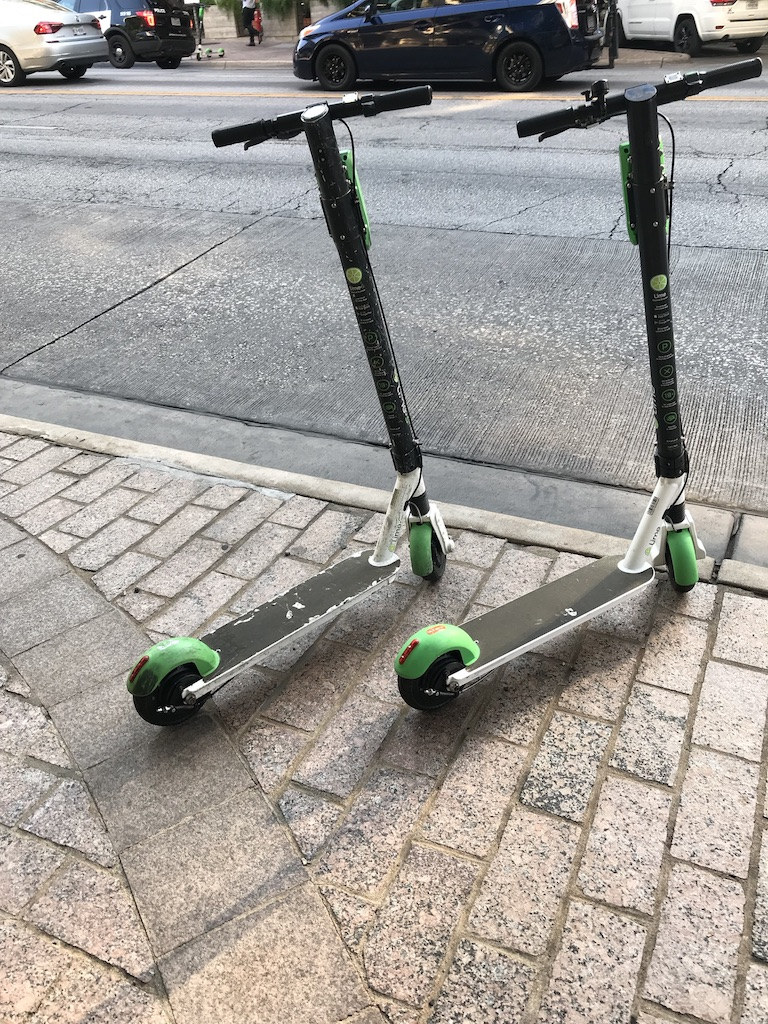scooter: (392, 53, 764, 713), (125, 85, 455, 726)
